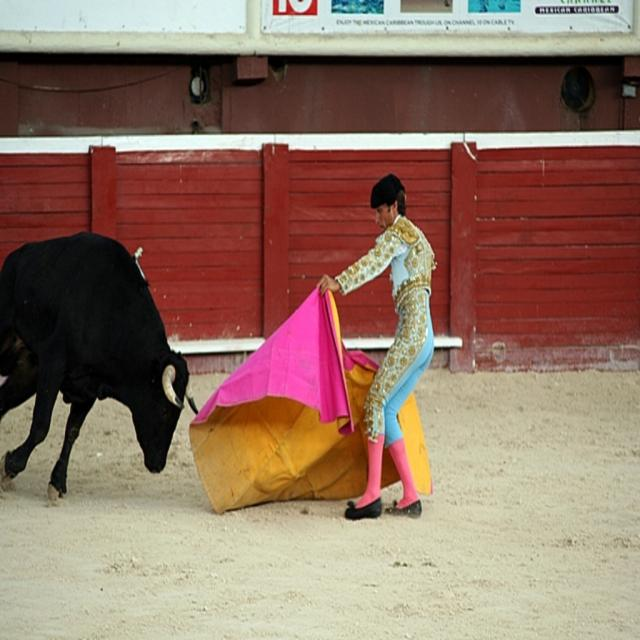Bull: (0, 230, 198, 500)
